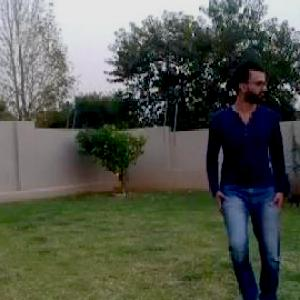follow: (204, 41, 296, 299)
